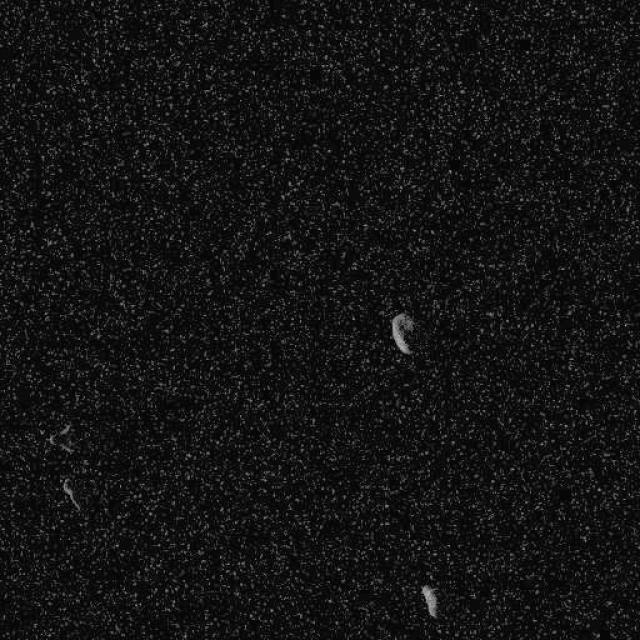D2: (390, 311, 415, 355), (60, 476, 81, 512), (419, 584, 439, 618)
